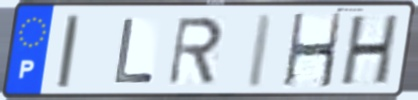H: (337, 12, 403, 89), (281, 11, 345, 90)
I: (243, 12, 277, 91), (54, 12, 82, 91)
L: (111, 16, 157, 86)
R: (165, 14, 226, 88)
